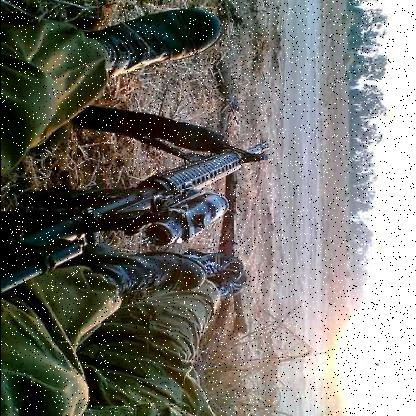rifle: (1, 137, 278, 290)
